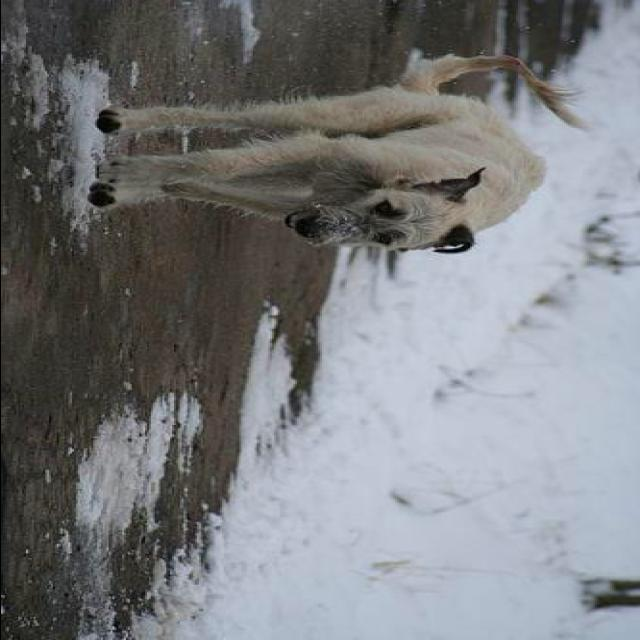irish_wolfhound: (86, 54, 596, 254)
